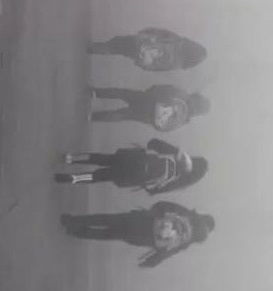person: (60, 201, 216, 269), (53, 137, 210, 196), (87, 81, 210, 132), (86, 25, 207, 72)
